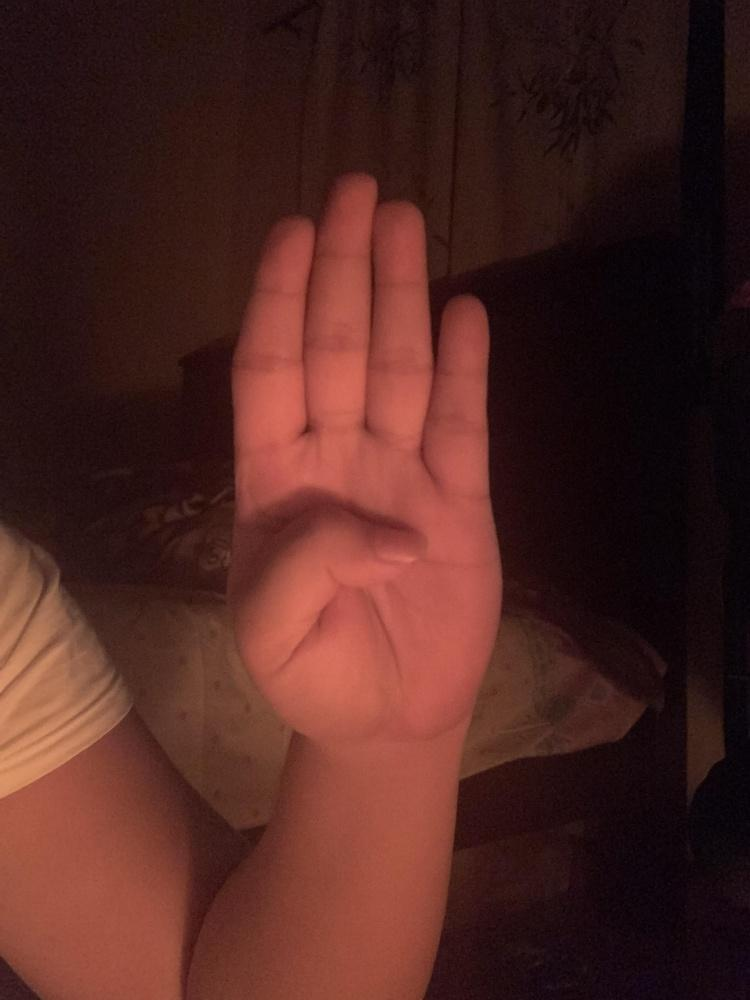b: (229, 169, 502, 740)
